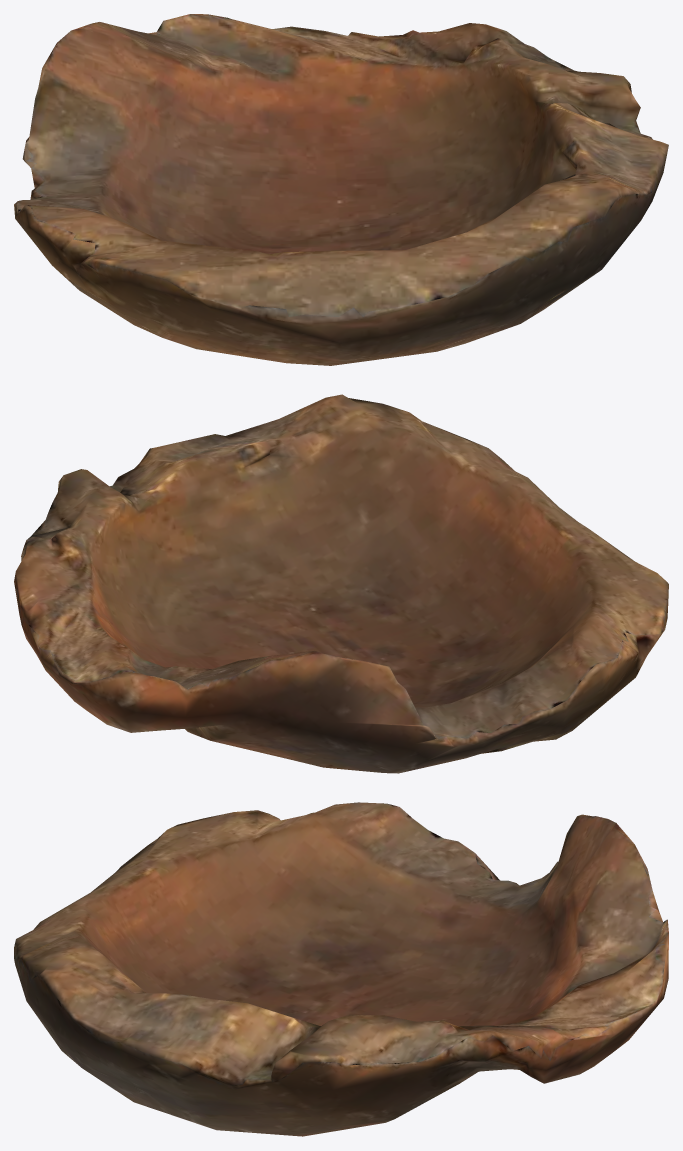
File: wooden_bowl_01.glb
3 renders of one model, top to bottom at view 1: azimuth 30°, elevation 25°; view 2: azimuth 150°, elevation 25°; view 3: azimuth 270°, elevation 25°, orthographic. The views are drawn at different scales.
Parts seen in each view (by area): view 1: wooden_bowl_01; view 2: wooden_bowl_01; view 3: wooden_bowl_01.
Boxes of the visible parts, <box> form: wooden_bowl_01: <box>14,14,668,365</box>; wooden_bowl_01: <box>14,394,668,773</box>; wooden_bowl_01: <box>14,802,668,1136</box>.
Size of the model in its own units: 0.3114 by 0.093 by 0.3079.
Materials: 1 (1 with a texture image).
